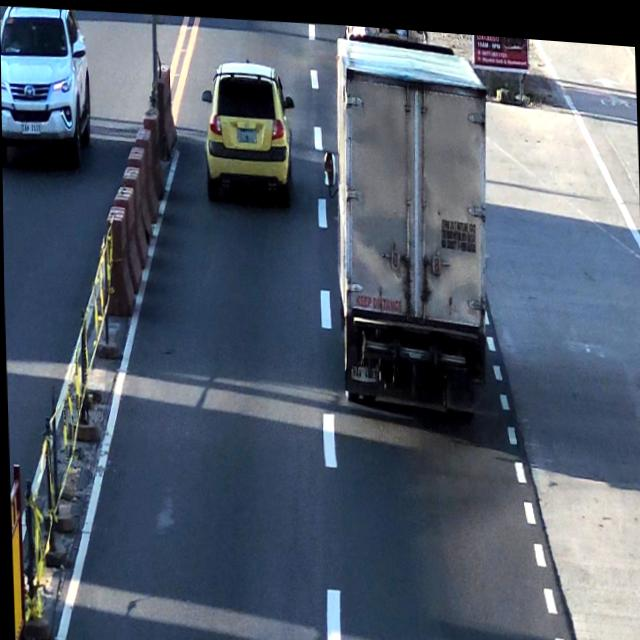Car: (197, 53, 293, 205)
License-Plate: (347, 357, 378, 377), (235, 121, 260, 142)
Truck: (332, 36, 482, 406)
